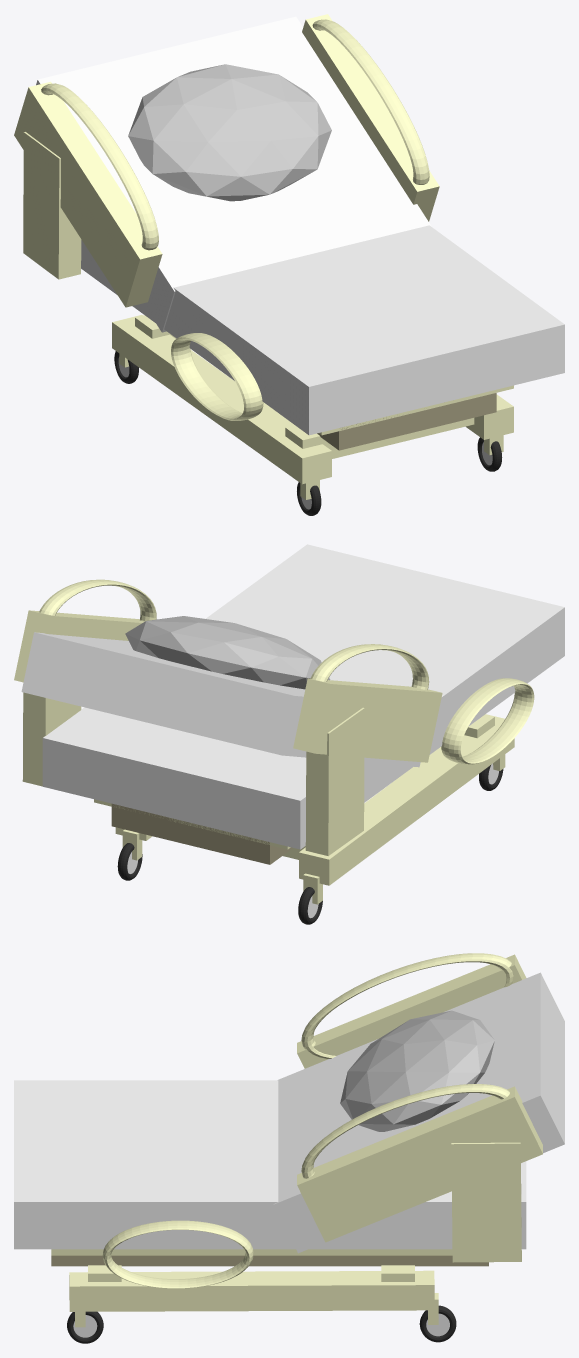
Rendered from bedER.fbx.
The picture shows the model from 3 angles, top to bottom: view 1: azimuth 30°, elevation 25°; view 2: azimuth 150°, elevation 25°; view 3: azimuth 270°, elevation 25°; orthographic projection. The views are drawn at different scales.
Parts seen in each view (by area): view 1: Cube, Cube.001, Icosphere, Cube.002, Cube.009, Cube.003, Cube.004, Torus.002, Cube.015, Torus, Torus.001, Cube.007 (+2 smaller); view 2: Cube, Cube.001, Cube.002, Icosphere, Cube.009, Cube.004, Cube.015, Torus.002, Cube.003, Cube.005, Torus, Torus.001 (+3 smaller); view 3: Cube, Cube.001, Cube.003, Cube.010, Icosphere, Cube.005, Cube.002, Cube.015, Torus.003, Cube.006, Torus, Torus.001 (+3 smaller).
Part boxes in pixels (bbox=[...]): Cube: bbox=[81, 225, 564, 435]; Cube.001: bbox=[36, 16, 431, 332]; Icosphere: bbox=[128, 64, 331, 201]; Cube.002: bbox=[14, 81, 162, 307]; Cube.009: bbox=[112, 315, 331, 484]; Cube.003: bbox=[302, 14, 439, 221]; Cube.004: bbox=[23, 132, 81, 279]; Torus.002: bbox=[171, 333, 263, 420]; Cube.015: bbox=[317, 393, 496, 450]; Torus: bbox=[41, 83, 158, 250]; Torus.001: bbox=[312, 19, 429, 184]; Cube.007: bbox=[285, 418, 474, 458]; Cube: bbox=[42, 544, 564, 849]; Cube.001: bbox=[21, 632, 420, 767]; Cube.002: bbox=[293, 678, 442, 762]; Icosphere: bbox=[125, 616, 330, 689]; Cube.009: bbox=[299, 714, 514, 885]; Cube.004: bbox=[305, 707, 364, 855]; Cube.015: bbox=[111, 803, 292, 864]; Torus.002: bbox=[441, 678, 534, 764]; Cube.003: bbox=[14, 610, 144, 682]; Cube.005: bbox=[22, 692, 81, 786]; Torus: bbox=[310, 644, 429, 690]; Torus.001: bbox=[39, 579, 156, 621]; Cube: bbox=[14, 1080, 526, 1249]; Cube.001: bbox=[273, 972, 564, 1253]; Cube.003: bbox=[297, 1086, 542, 1242]; Cube.010: bbox=[69, 1270, 434, 1311]; Icosphere: bbox=[340, 1010, 494, 1131]; Cube.005: bbox=[451, 1142, 521, 1262]; Cube.002: bbox=[297, 954, 526, 1068]; Cube.015: bbox=[51, 1255, 488, 1266]; Torus.003: bbox=[102, 1220, 253, 1288]; Cube.006: bbox=[51, 1249, 452, 1255]; Torus: bbox=[301, 953, 513, 1058]; Torus.001: bbox=[301, 1084, 509, 1178].
Bounding box in the file's own units: 240 × 218 × 387.
